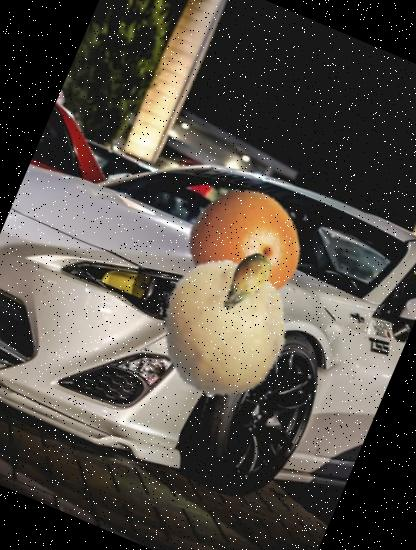Cactus: (200, 238, 290, 328)
Grapefruit: (169, 172, 318, 321)
Lemon: (134, 239, 314, 420)
